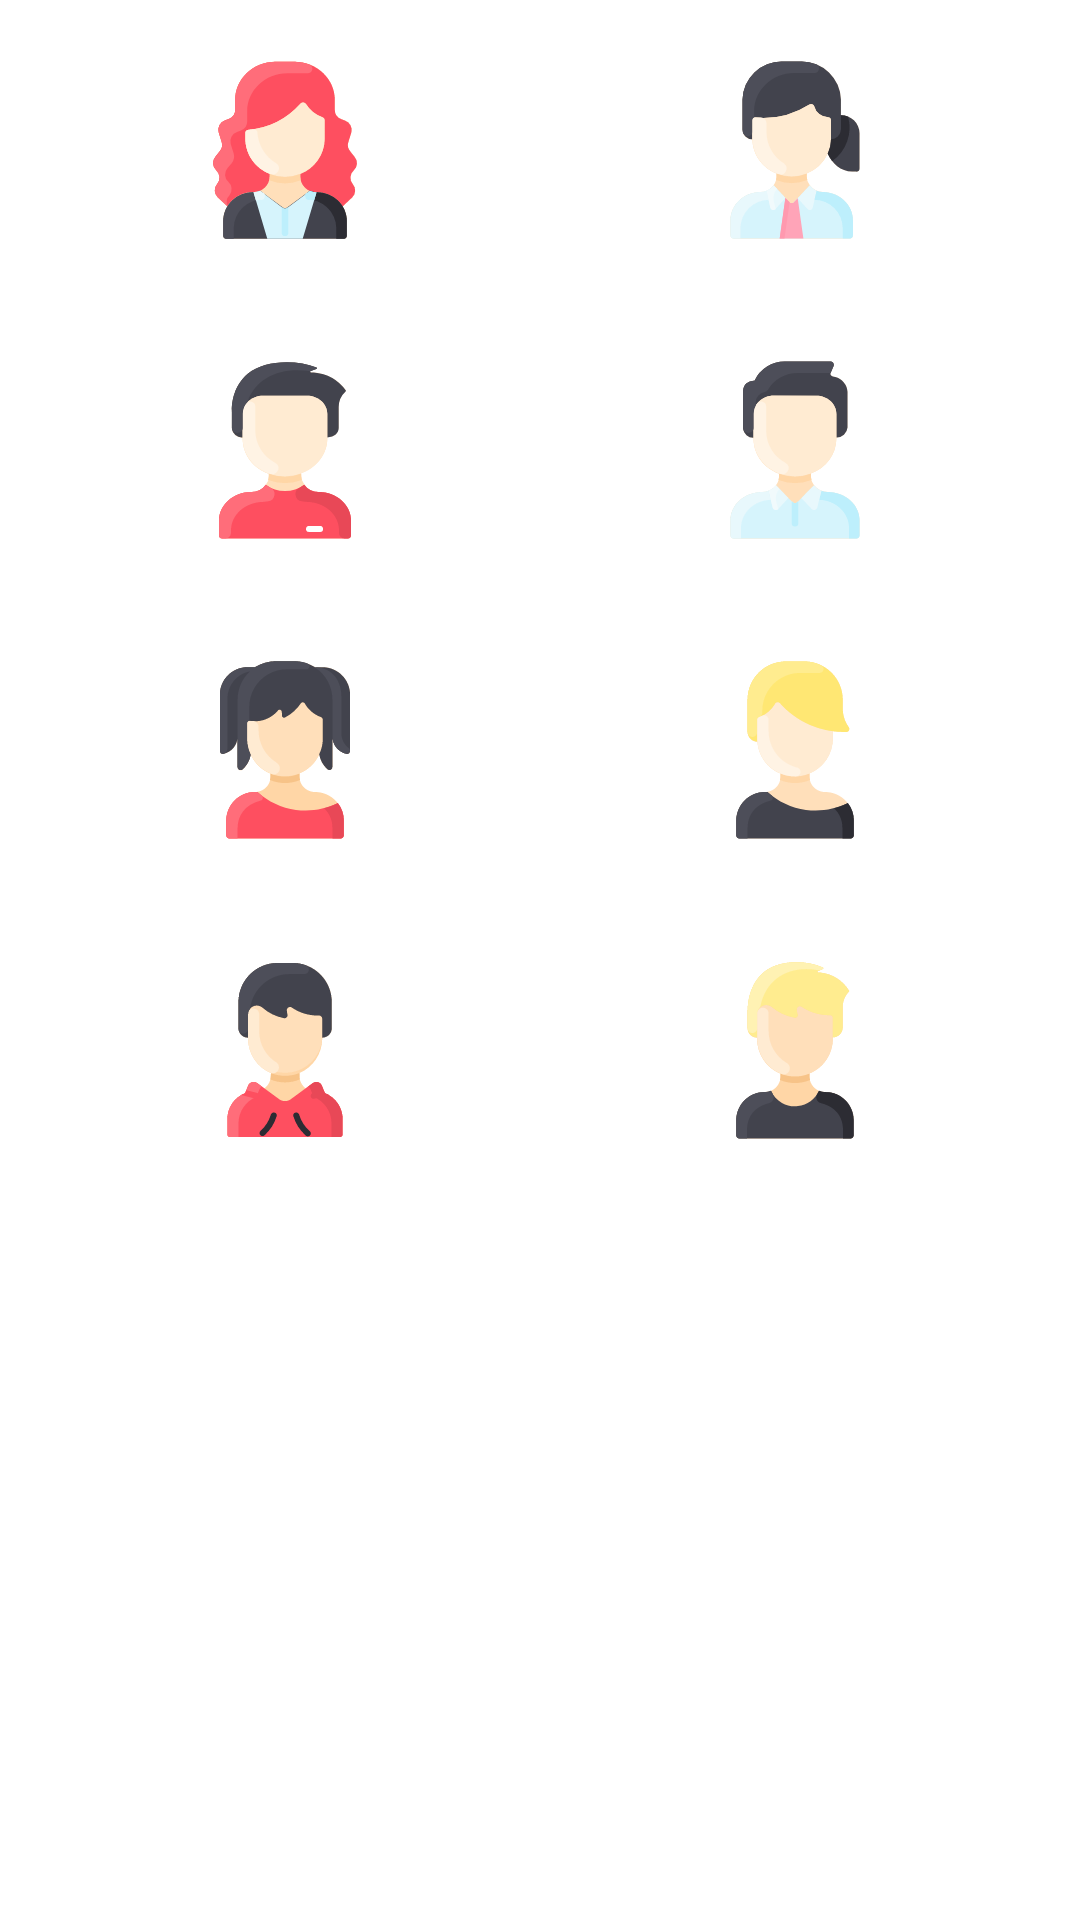

Named icons in this screenshot (1080px x 1920px) and their bounding boxes, (x1, y1, x2, y2):
man: (731, 361, 860, 539), (219, 362, 351, 539), (736, 962, 854, 1139), (227, 963, 343, 1137)
women: (213, 61, 357, 239), (731, 61, 860, 239), (220, 661, 350, 839), (736, 661, 854, 839)
